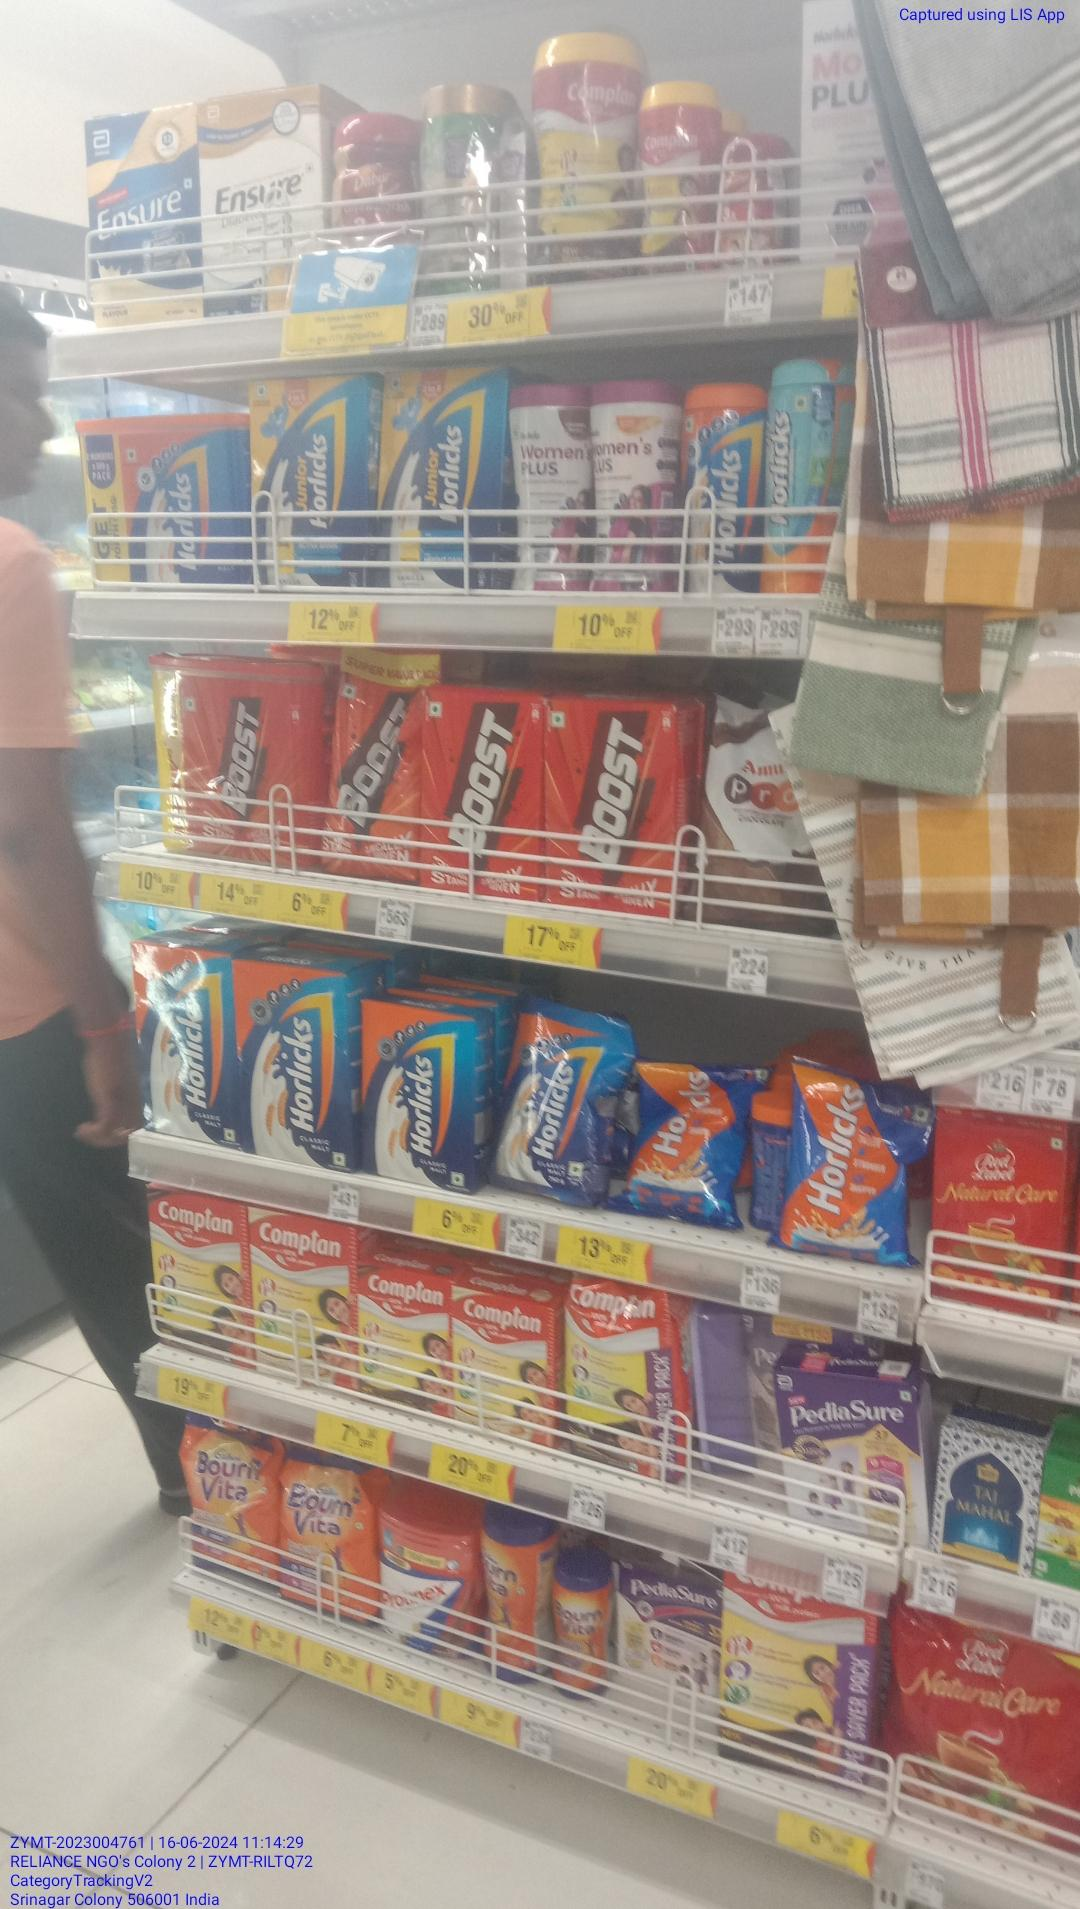HORLICK_CLASSIC_MALT_500_G_PACK: (362, 987, 474, 1202), (136, 949, 236, 1149), (241, 958, 339, 1156)
PEDIASURE_VANILLA_500_G_PACK: (785, 1350, 925, 1538)
